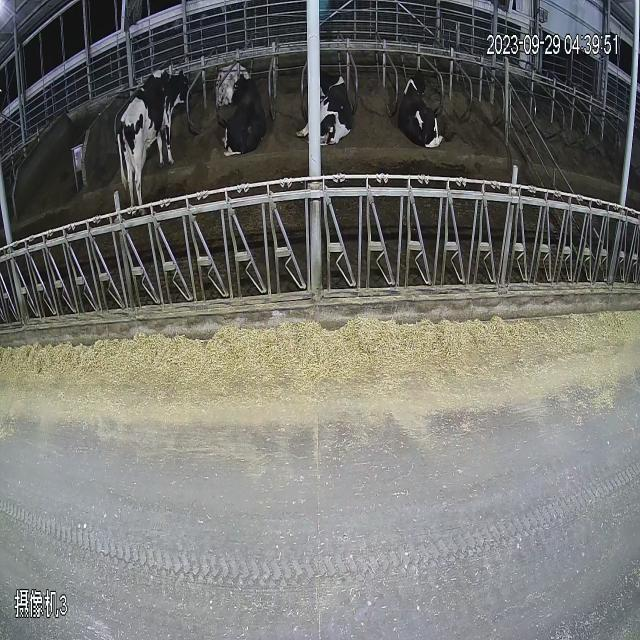lying down: (203, 9, 458, 168)
standing: (101, 38, 196, 238)
